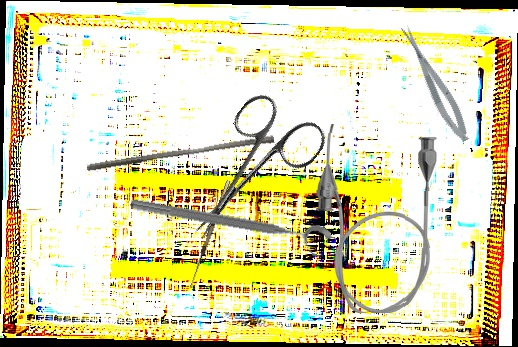Cannula: (314, 123, 438, 315)
Fixation Ring: (126, 192, 335, 262)
Hook Surgical: (187, 179, 237, 291)
Iris Scissors: (164, 82, 332, 265)
Micro Scissor: (396, 21, 475, 146)
Pusher: (86, 128, 275, 179)
